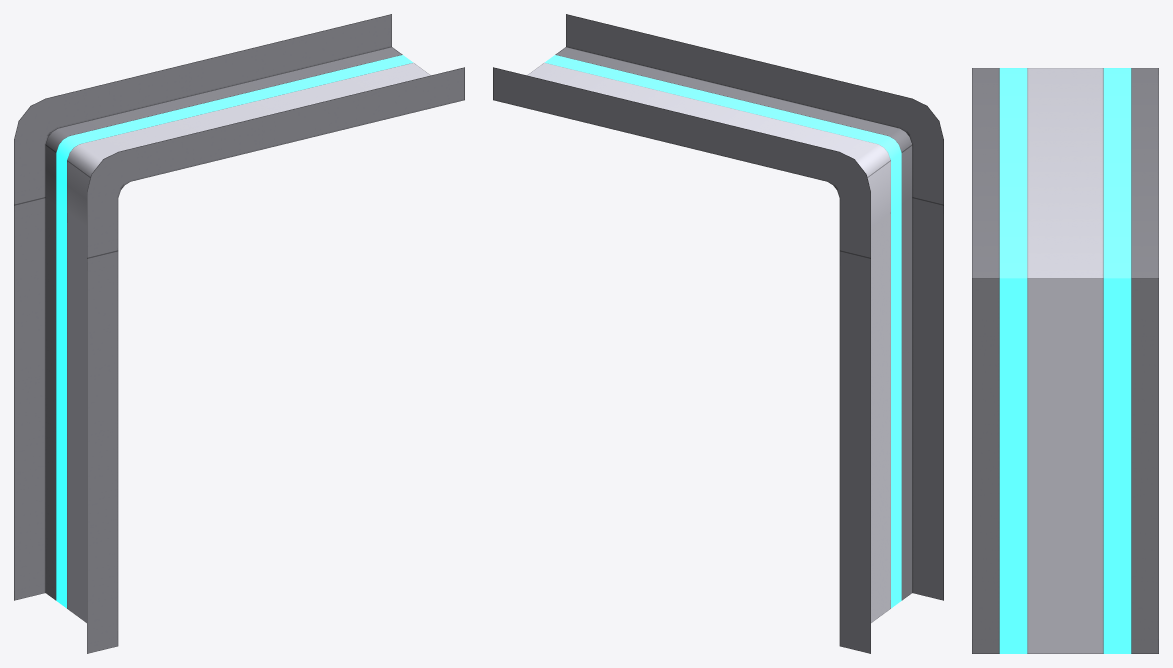
The model's file is Door_Arch_01.FBX.
3 renders of one model, left to right at view 1: azimuth 30°, elevation 25°; view 2: azimuth 150°, elevation 25°; view 3: azimuth 270°, elevation 25°, orthographic. The views are drawn at different scales.
Visible parts, largest first — view 1: Door_Arch_01; view 2: Door_Arch_01; view 3: Door_Arch_01.
Part boxes in pixels (x1,y1,x2,y2): Door_Arch_01: (14, 14, 464, 653); Door_Arch_01: (493, 14, 943, 653); Door_Arch_01: (972, 68, 1158, 653).
Size of the model in its own units: 3 by 3.75 by 1.
2 materials, 1 textured.
